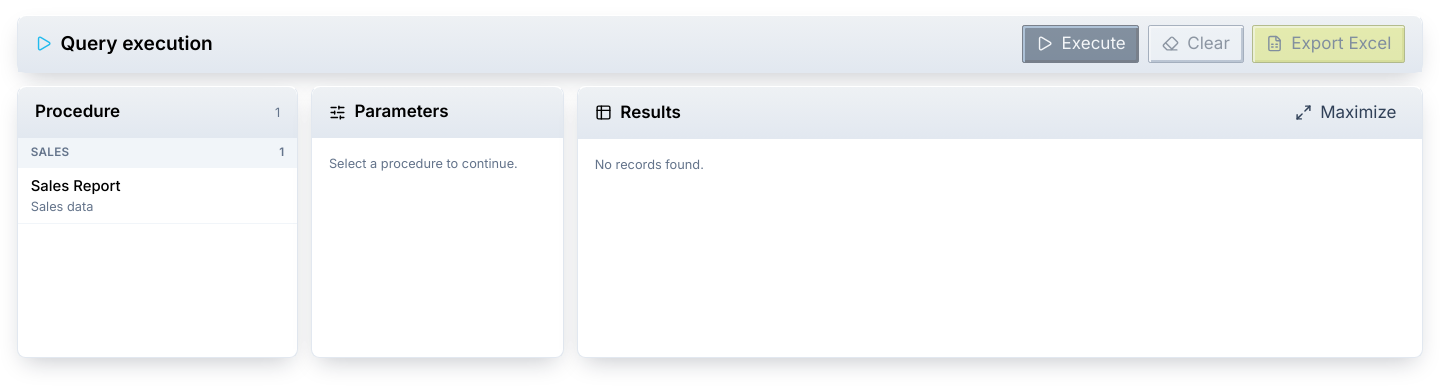
Test: selecting a procedure loads its parameters and enables Execute
The image size is (1440, 388).
Click the option "Sales Report Sales data": (76,186) [18, 168, 297, 224]
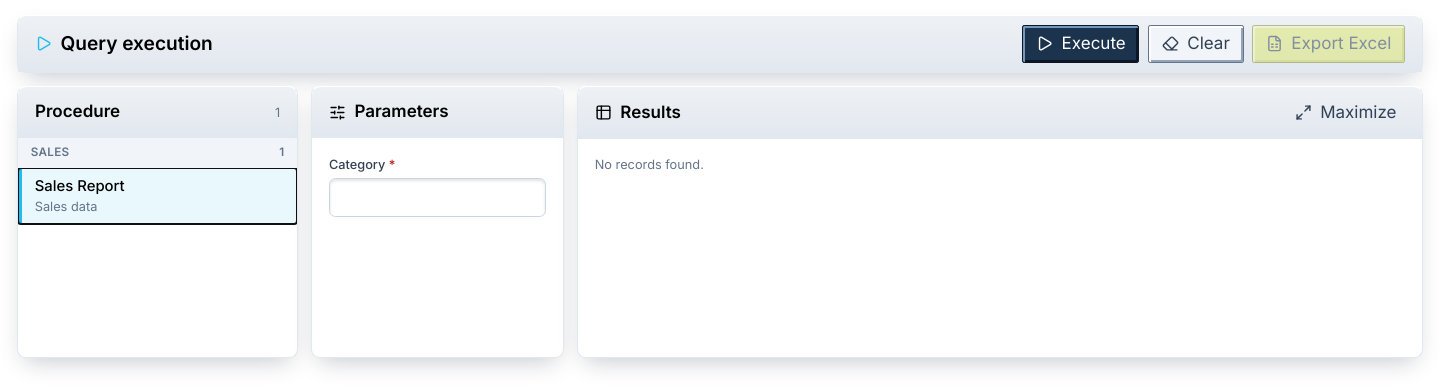
Check: the text "Category" is shown, box [329, 157, 385, 172]
Check: the button "Execute" is enabled, box [1022, 24, 1140, 63]
